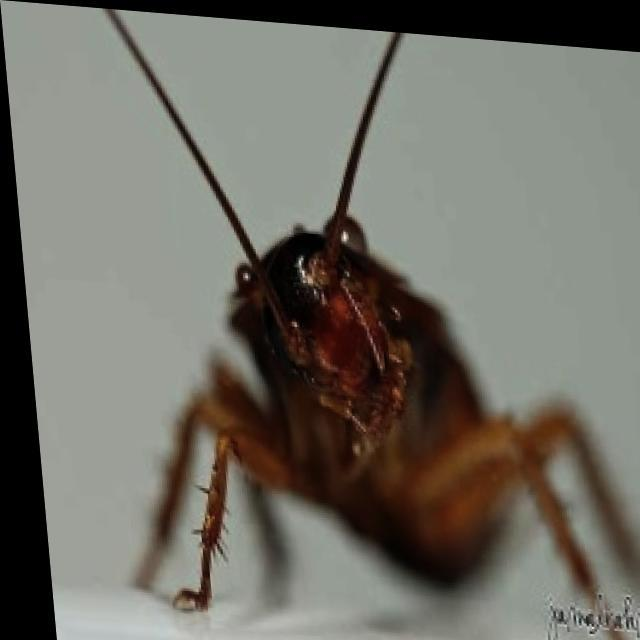cockroach: (101, 193, 632, 625)
